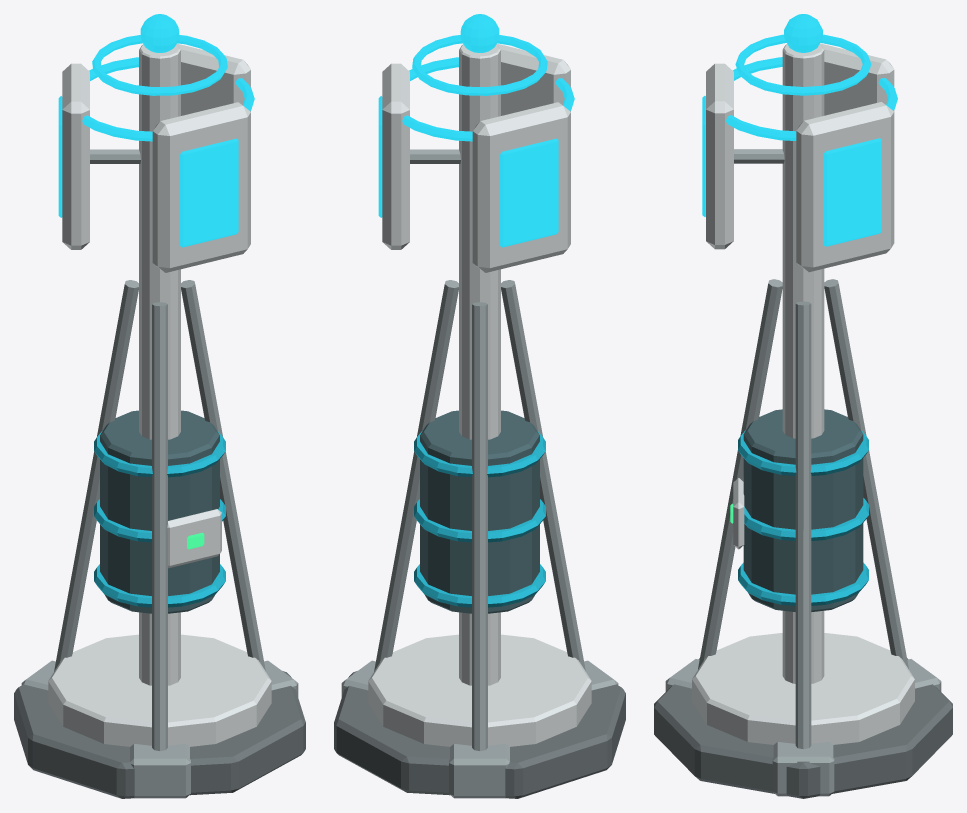
File: SignalAugment.glb
3 views of the same model, side by side, from view 1: azimuth 30°, elevation 25°; view 2: azimuth 150°, elevation 25°; view 3: azimuth 270°, elevation 25° (orthographic).
Visible parts, largest first — view 1: FTF_Tool_SignalBoosterTower_4m_v1_Static; view 2: FTF_Tool_SignalBoosterTower_4m_v1_Static; view 3: FTF_Tool_SignalBoosterTower_4m_v1_Static.
Boxes of the visible parts, <box> form: FTF_Tool_SignalBoosterTower_4m_v1_Static: <box>14,14,305,798</box>; FTF_Tool_SignalBoosterTower_4m_v1_Static: <box>334,14,625,798</box>; FTF_Tool_SignalBoosterTower_4m_v1_Static: <box>654,14,952,798</box>.
Bounding box in the file's own units: 1.5 × 4 × 1.5.
